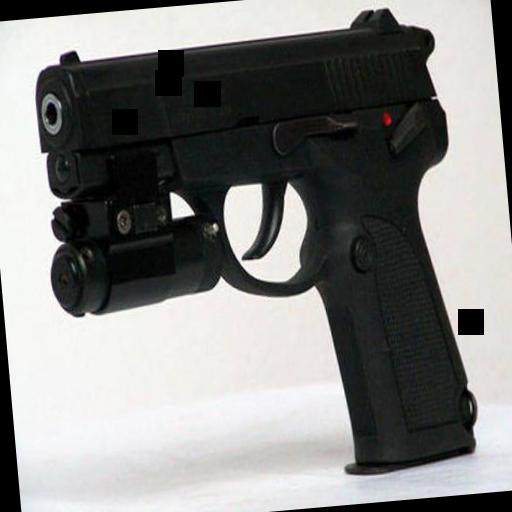Handgun: (27, 0, 479, 496)
